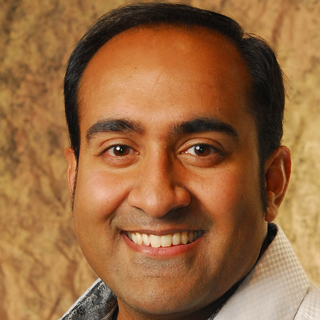eye: (177, 139, 226, 163), (96, 139, 140, 164)
